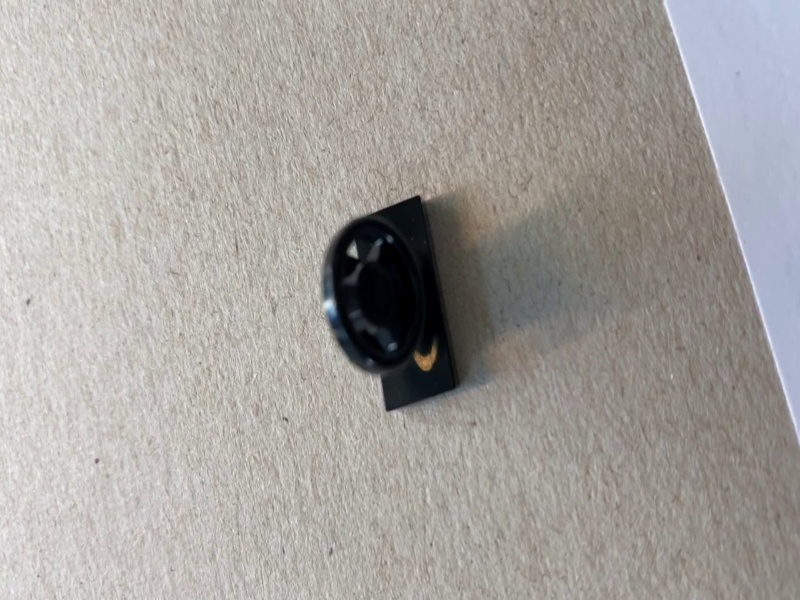steering wheel: (323, 193, 462, 414)
